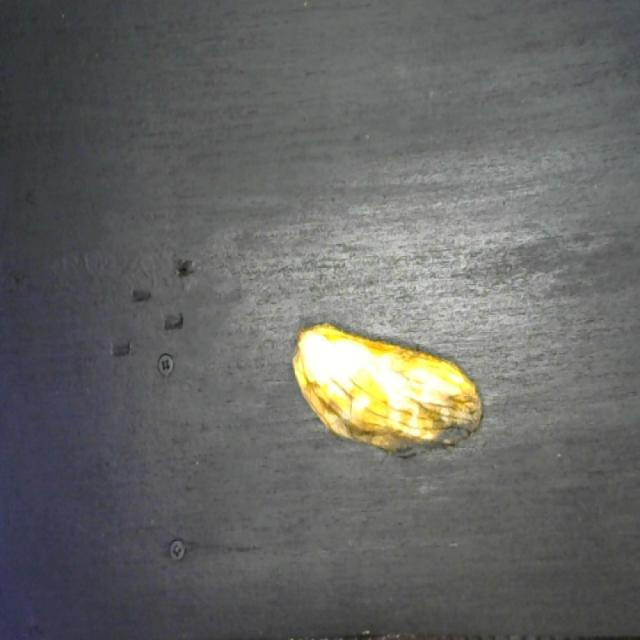biodegradable: (286, 313, 490, 460)
